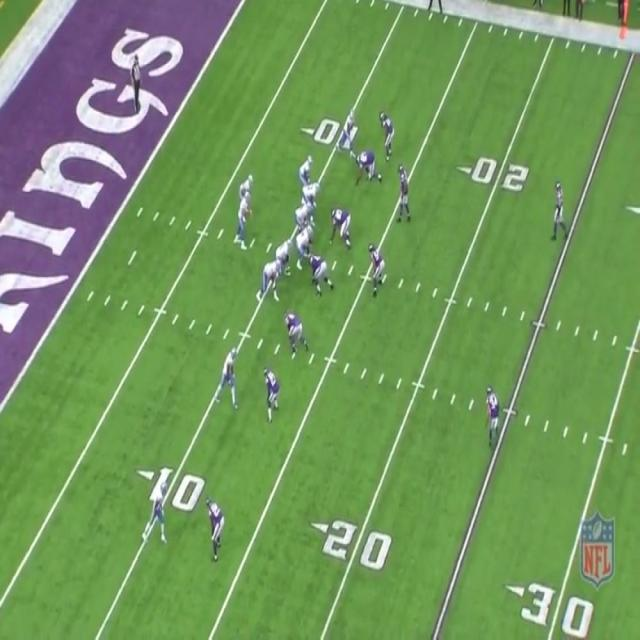center: (296, 223, 314, 268)
db: (481, 387, 503, 449), (206, 496, 225, 560), (548, 177, 568, 235), (264, 371, 282, 417), (377, 109, 392, 150)
lb: (366, 244, 386, 292), (397, 166, 410, 220)
qb: (238, 190, 252, 244)
